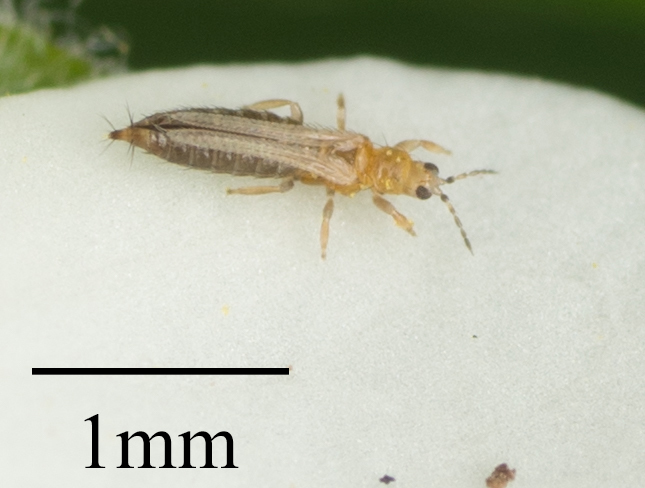tiny_pests: (79, 66, 533, 280)
